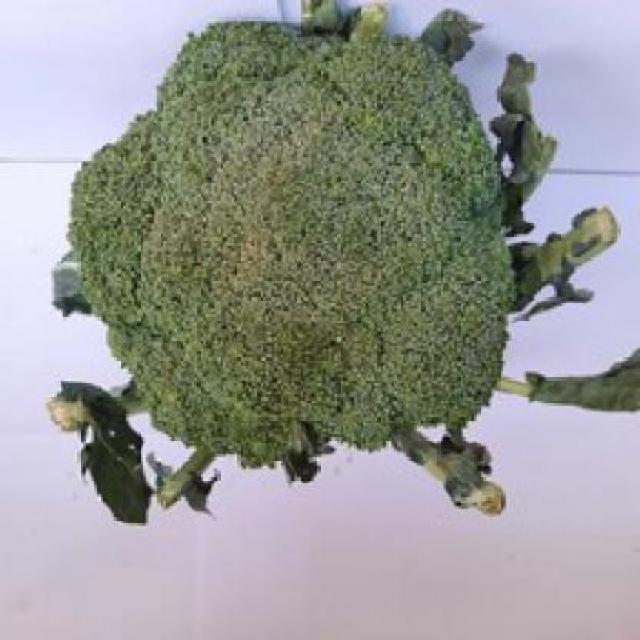broccoli: (60, 17, 577, 486)
